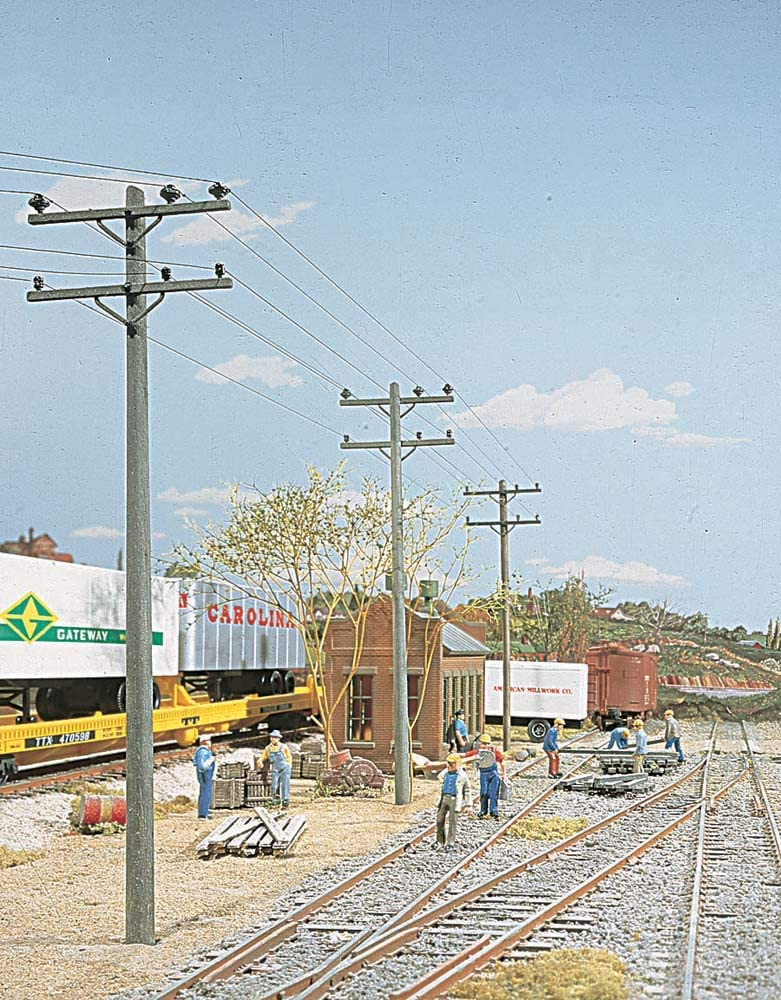utility_pole: (16, 166, 246, 360), (328, 371, 465, 494), (455, 468, 549, 557)
